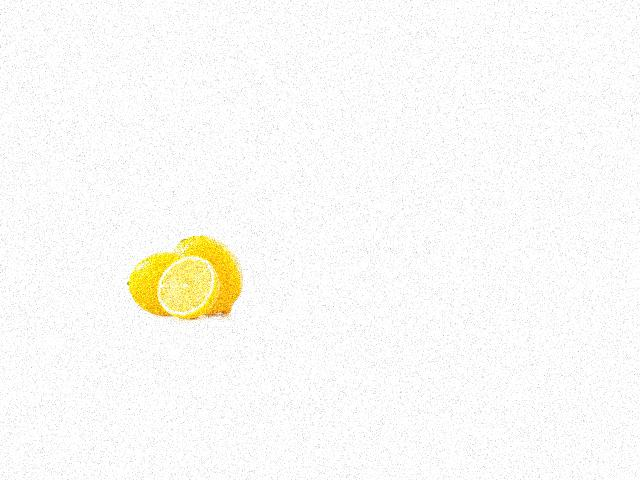lemon: (128, 250, 201, 317)
